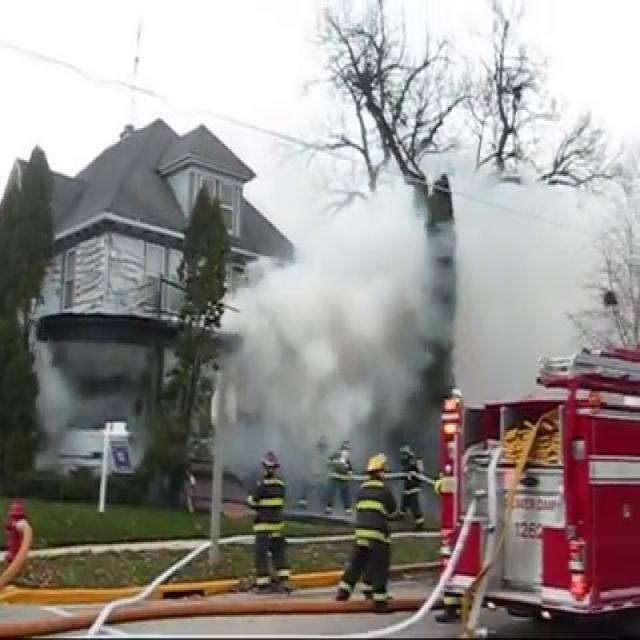Smoke: (214, 3, 466, 489)
